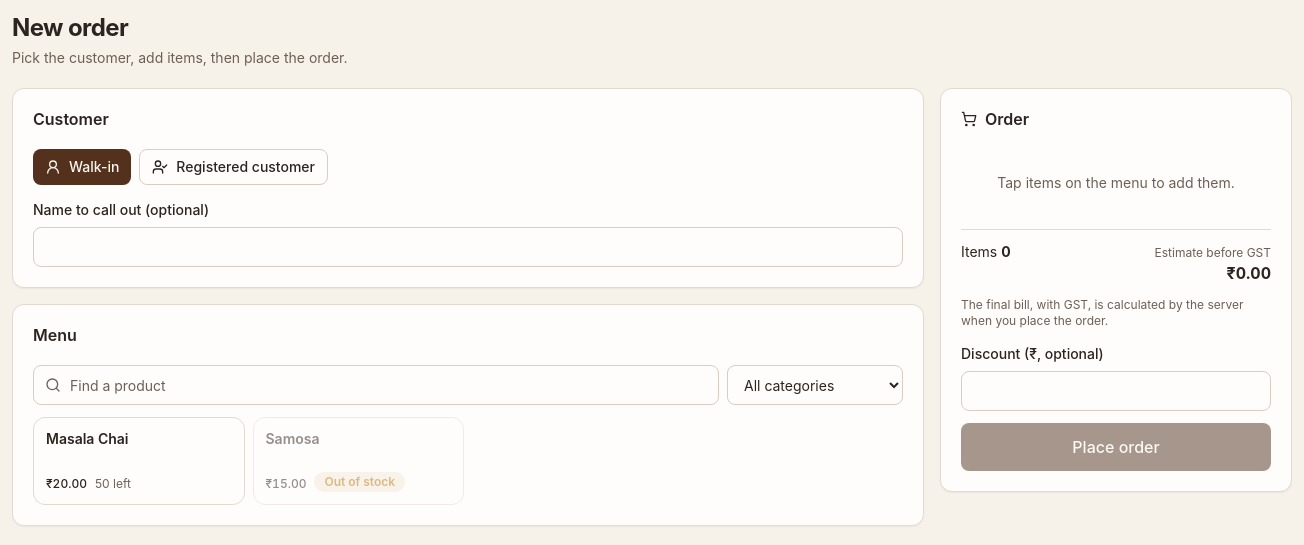
Test: POS › lets a manager apply a discount and see the server total
Step 1. Click the button "Masala Chai ₹20.00 50 left" → click(139, 461), box [33,417,244,505]
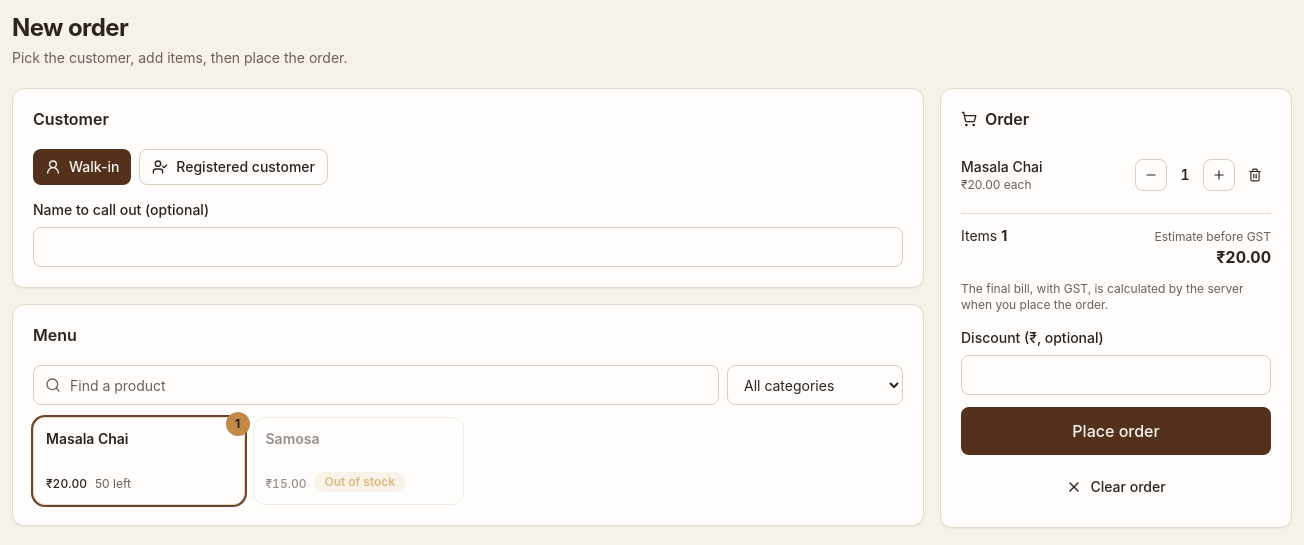
Step 2. Type "5" into the field labelled "Discount (₹, optional)" → (1116, 375), box [961,355,1271,395]
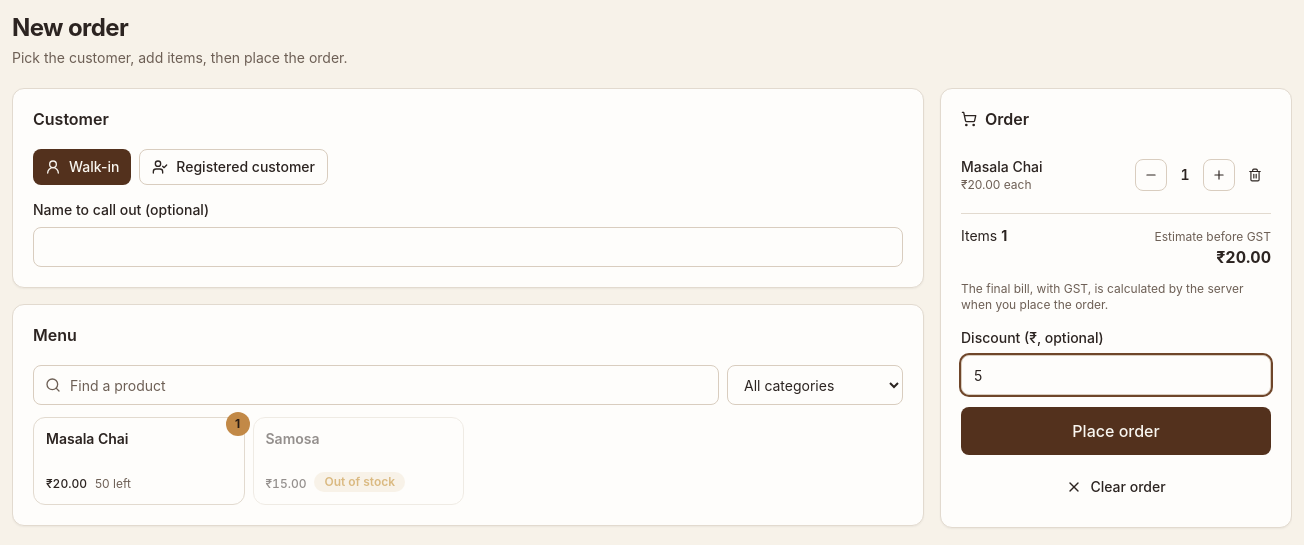
Step 3. Click the button "Place order" → click(1116, 431), box [961,407,1271,455]
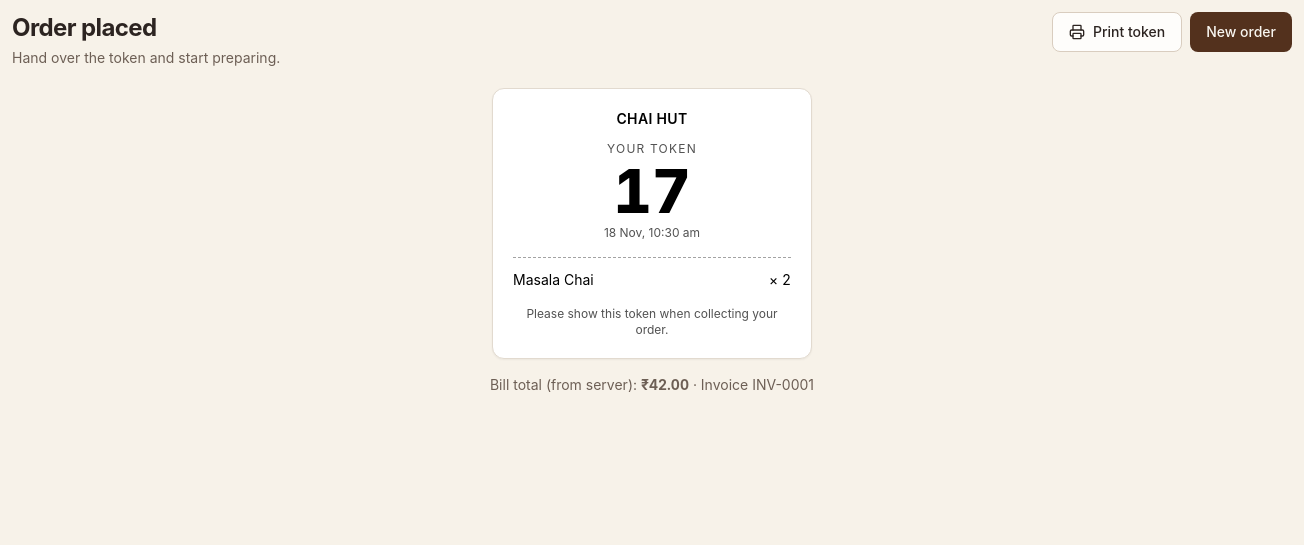
Expected: the text "Bill total (from server): ₹42.00 · Invoice INV-0001" is shown, [490,376,814,393]
